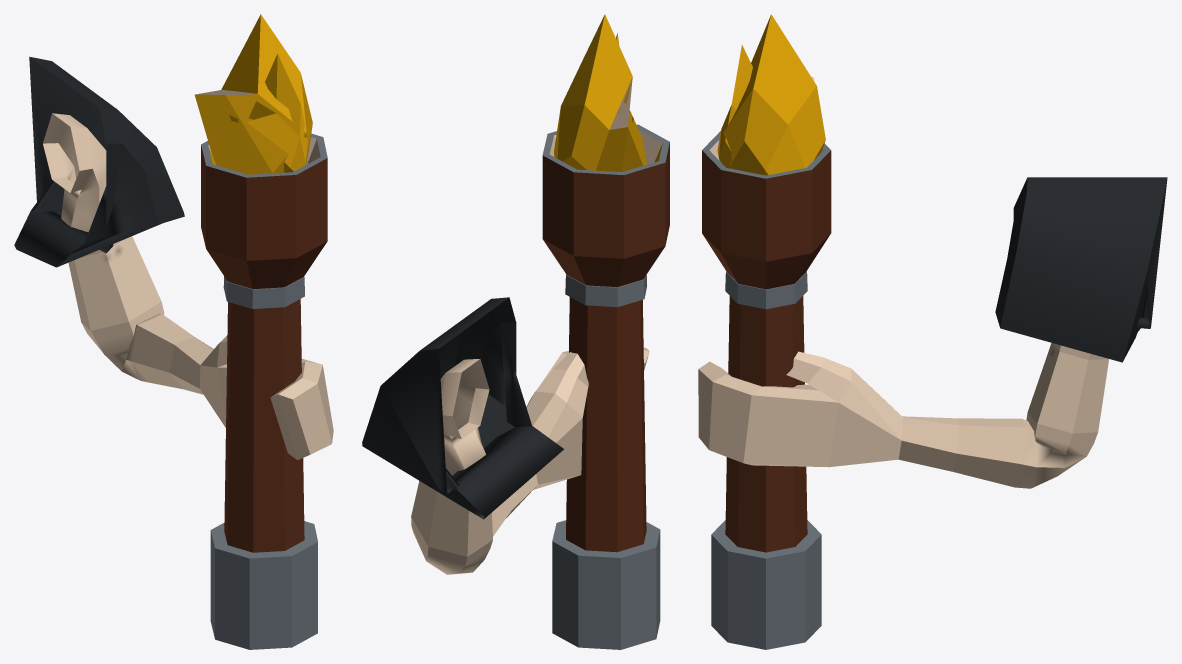
Rendered from MujerGA_BrazoIzq_Flex.obj.
3 views of the same model, side by side, from view 1: azimuth 30°, elevation 25°; view 2: azimuth 150°, elevation 25°; view 3: azimuth 270°, elevation 25° (orthographic).
Parts seen in each view (by area): view 1: MujerGA_BrazoIzq_Flex; view 2: MujerGA_BrazoIzq_Flex; view 3: MujerGA_BrazoIzq_Flex.
Boxes of the visible parts, bbox=[...] form: MujerGA_BrazoIzq_Flex: bbox=[14, 14, 333, 649]; MujerGA_BrazoIzq_Flex: bbox=[362, 14, 669, 649]; MujerGA_BrazoIzq_Flex: bbox=[698, 14, 1167, 649].
Bounding box in the file's own units: 1.53 × 6.05 × 4.21.
Materials: 1 (1 with a texture image).
